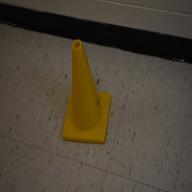cone: (62, 38, 112, 143)
